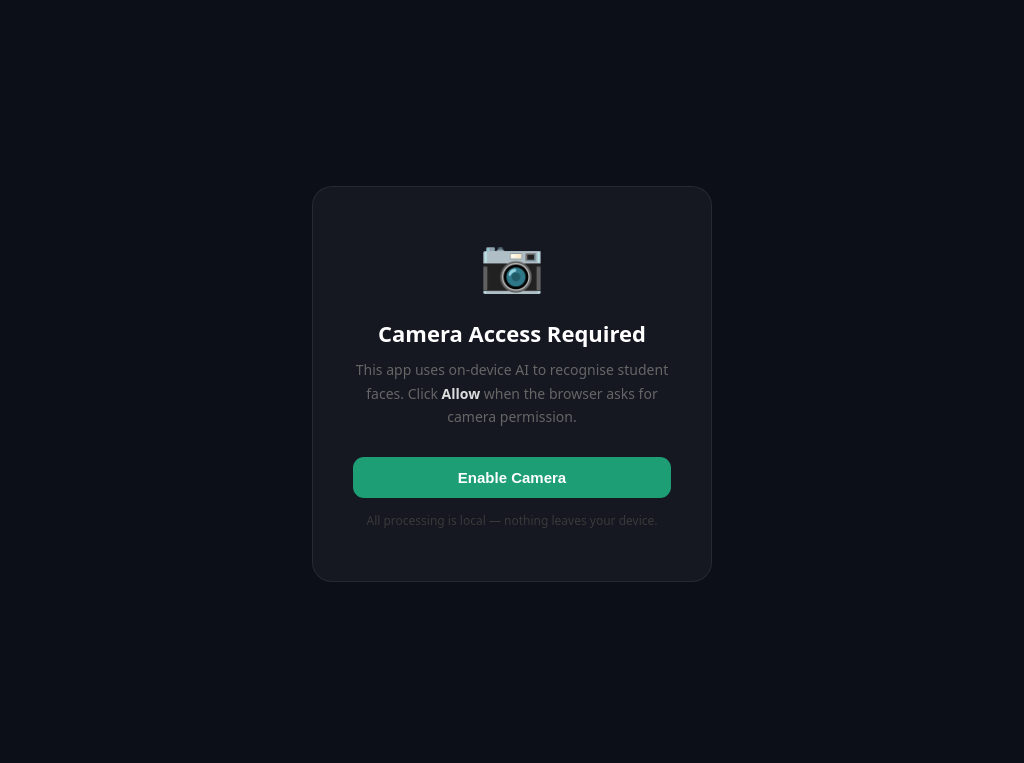
Test: App › persists roster and attendance across reloads
The image size is (1024, 763).
Earlier steps of the test are not shown.
Click the button "Enable Camera" at (512, 478), box [353,457,671,498]
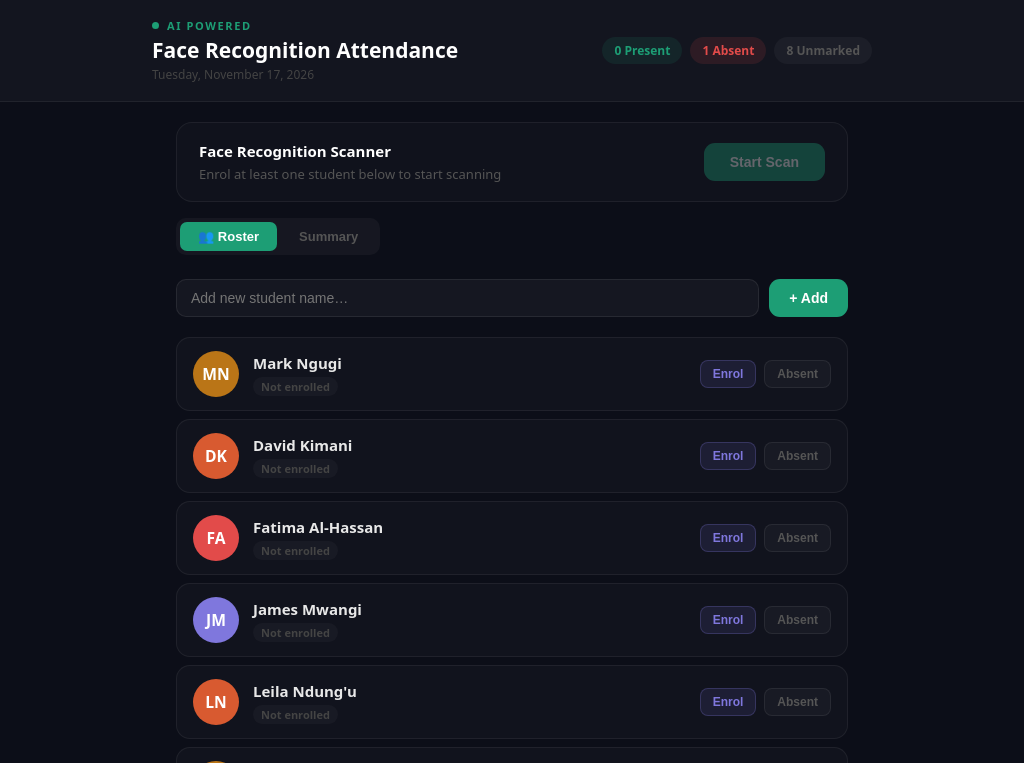
Result: the text "1 Absent" is shown at [690,37,766,64]
